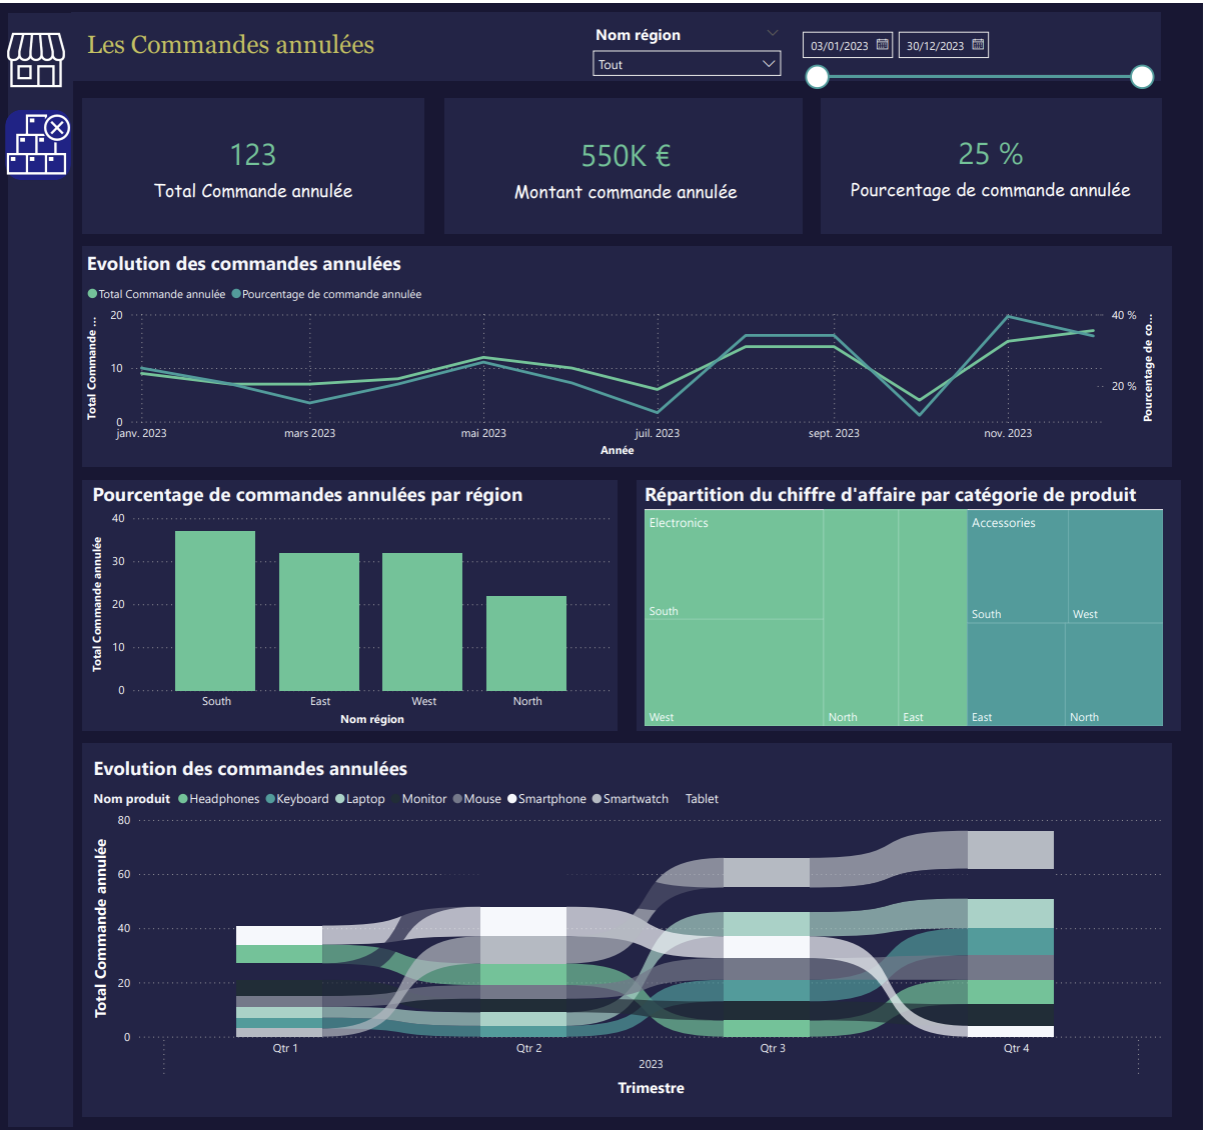

What the dashboard file says about the page in this screenshot:
{"tool":"powerbi","page":{"name":"Ventes annulées","canvas":[1280,2000],"ordinal":1},"visuals":[{"type":"shape","box":[9.9,9.9,69.5,1185],"z":0},{"type":"shape","box":[76.6,8.7,1158.1,73.1],"z":1000},{"type":"shape","box":[89.3,100.6,362.9,144.6],"z":2000},{"type":"shape","box":[89.3,258,1158.1,235.3],"z":3000},{"type":"shape","box":[89.3,507.5,568.4,266.5],"z":4000},{"type":"shape","box":[679,507.5,578.3,266.5],"z":5000},{"type":"shape","box":[89.3,786.7,1158.1,398.3],"z":6000},{"type":"textbox","box":[88.8,24.4,346.6,55.7],"z":7000},{"type":"lineChart","title":"Evolution des commandes annulées","fields":{"Category":["ventes.Date commande.Variation.Hiérarchie de dates.Année","ventes.Date commande.Variation.Hiérarchie de dates.Trimestre","ventes.Date commande.Variation.Hiérarchie de dates.Mois","ventes.Date commande.Variation.Hiérarchie de dates.Jour"],"Y":["Mesure.Total Commande annulée"],"Y2":["Mesure.Pourcentage de commande annulée"]},"box":[89.3,262.2,1148.2,225.4],"z":8000},{"type":"clusteredColumnChart","title":"Pourcentage de commandes annulées par région","fields":{"Category":["Régions.Nom région"],"Y":["Mesure.Total Commande annulée"]},"box":[95,507.5,561.3,266.5],"z":9000},{"type":"treemap","title":"Répartition du chiffre d''affaire par catégorie de produit","fields":{"Group":["Produits.catégorie produit"],"Values":["Mesure.Total Vente"],"Details":["Régions.Nom région"]},"box":[681.8,507.5,561.3,266.5],"z":10000},{"type":"slicer","fields":{"Values":["Régions.Nom région"]},"box":[622.3,17,219.7,63.8],"z":11000},{"type":"slicer","fields":{"Values":["ventes.Date commande"]},"box":[842,19.8,395.5,80.8],"z":12000},{"type":"shape","box":[474.9,100.6,379.9,144.6],"z":13000},{"type":"shape","box":[874.6,100.6,362.9,144.6],"z":14000},{"type":"card","fields":{"Values":["Mesure.Total Commande annulée"]},"box":[89.3,100.6,362.9,144.6],"z":15000},{"type":"card","fields":{"Values":["Mesure.Montant commande annulée"]},"box":[478.9,101,376.2,144.5],"z":16000},{"type":"card","fields":{"Values":["Mesure.Pourcentage de commande annulée"]},"box":[867.3,99.3,376.2,144.5],"z":17000},{"type":"ribbonChart","title":"Evolution des commandes annulées","fields":{"Category":["ventes.Date commande.Variation.Hiérarchie de dates.Année","ventes.Date commande.Variation.Hiérarchie de dates.Trimestre","ventes.Date commande.Variation.Hiérarchie de dates.Mois","ventes.Date commande.Variation.Hiérarchie de dates.Jour"],"Y":["Mesure.Total Commande annulée"],"Series":["Produits.Nom produit"]},"box":[95.8,799.3,1147.6,369.2],"z":18000},{"type":"image","box":[0,8.7,80.1,102.7],"z":19000},{"type":"shape","box":[7,113.2,69.7,74.9],"z":20001},{"type":"image","box":[1.7,99.3,80.1,101],"z":20501}]}

Visuals, with their boxes on the page's 1280x2000 design canvas (x1, y1, x2, y2). These are canvas units, not pixel positions in the 1206x1130 screenshot, which may show the page scaled, cropped or inside an application window:
shape: <box>10,10,79,1195</box>
shape: <box>77,9,1235,82</box>
shape: <box>89,101,452,245</box>
shape: <box>89,258,1247,493</box>
shape: <box>89,508,658,774</box>
shape: <box>679,508,1257,774</box>
shape: <box>89,787,1247,1185</box>
textbox: <box>89,24,435,80</box>
"Evolution des commandes annulées" lineChart: <box>89,262,1238,488</box>
"Pourcentage de commandes annulées par région" clusteredColumnChart: <box>95,508,656,774</box>
"Répartition du chiffre d''affaire par catégorie de produit" treemap: <box>682,508,1243,774</box>
slicer - Régions.Nom région: <box>622,17,842,81</box>
slicer - ventes.Date commande: <box>842,20,1238,101</box>
shape: <box>475,101,855,245</box>
shape: <box>875,101,1238,245</box>
card - Mesure.Total Commande annulée: <box>89,101,452,245</box>
card - Mesure.Montant commande annulée: <box>479,101,855,246</box>
card - Mesure.Pourcentage de commande annulée: <box>867,99,1244,244</box>
"Evolution des commandes annulées" ribbonChart: <box>96,799,1243,1168</box>
image: <box>0,9,80,111</box>
shape: <box>7,113,77,188</box>
image: <box>2,99,82,200</box>
